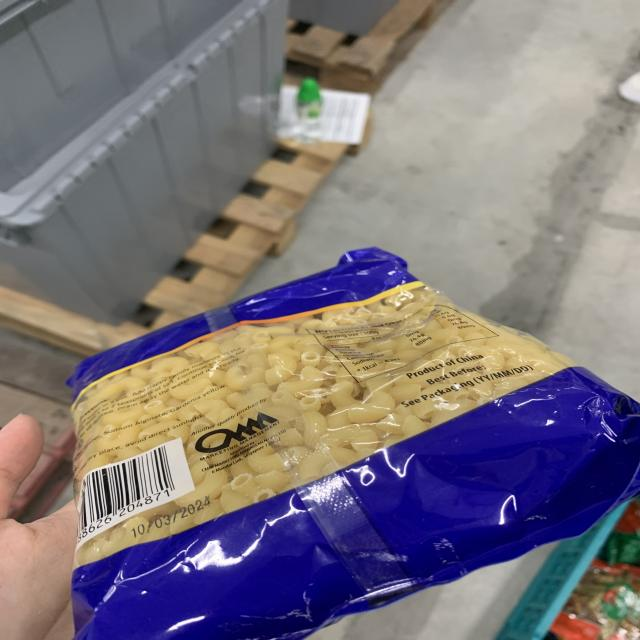object_name: (68, 320, 553, 616)
